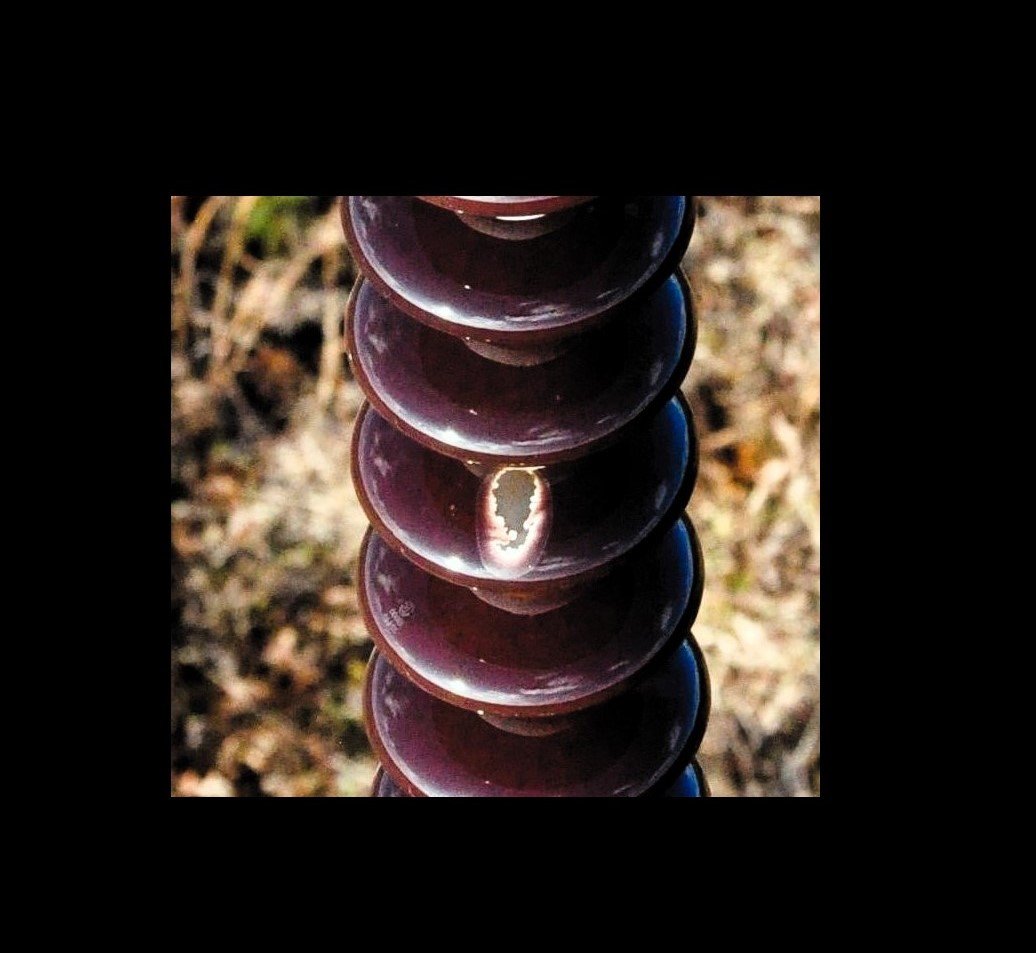Insulator flashover: (341, 396, 707, 597)
